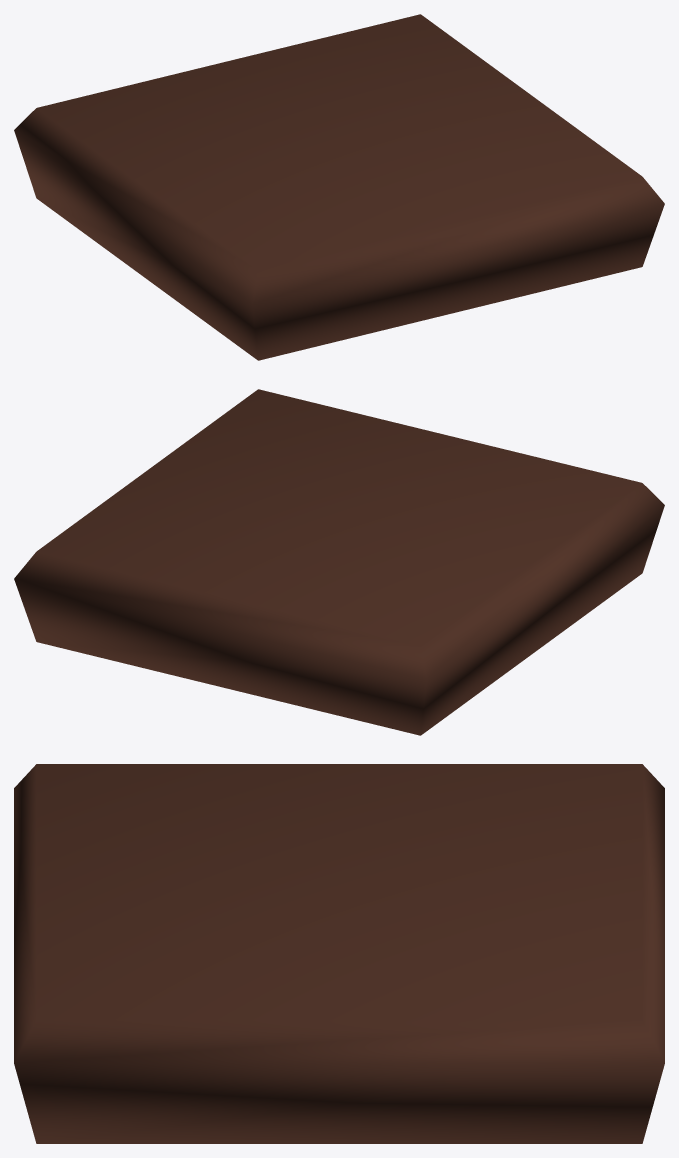
The model's file is Carne.glb.
3 renders of one model, top to bottom at view 1: azimuth 30°, elevation 25°; view 2: azimuth 150°, elevation 25°; view 3: azimuth 270°, elevation 25°, orthographic. The views are drawn at different scales.
Visible parts, largest first — view 1: SegundaCarne; view 2: SegundaCarne; view 3: SegundaCarne.
Part boxes in pixels (x1,y1,x2,y2): SegundaCarne: (14,14,664,360); SegundaCarne: (14,389,664,735); SegundaCarne: (14,764,664,1143).
Bounding box in the file's own units: 2.15 × 0.4497 × 2.15.
